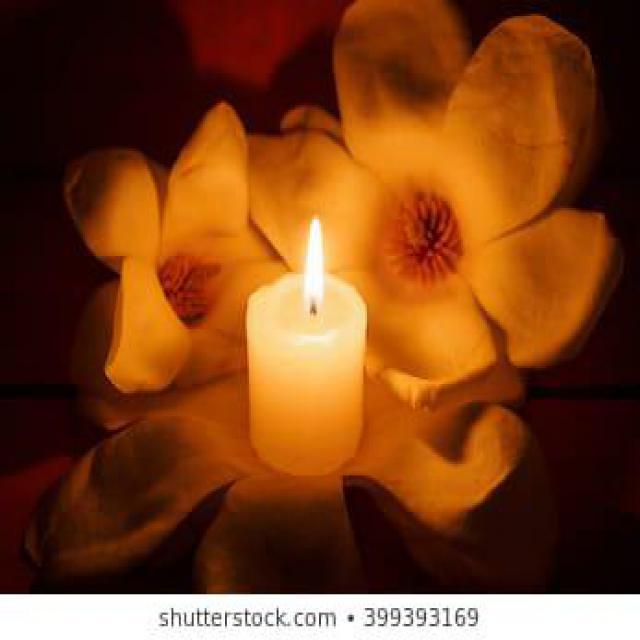Fire: (304, 213, 325, 314)
